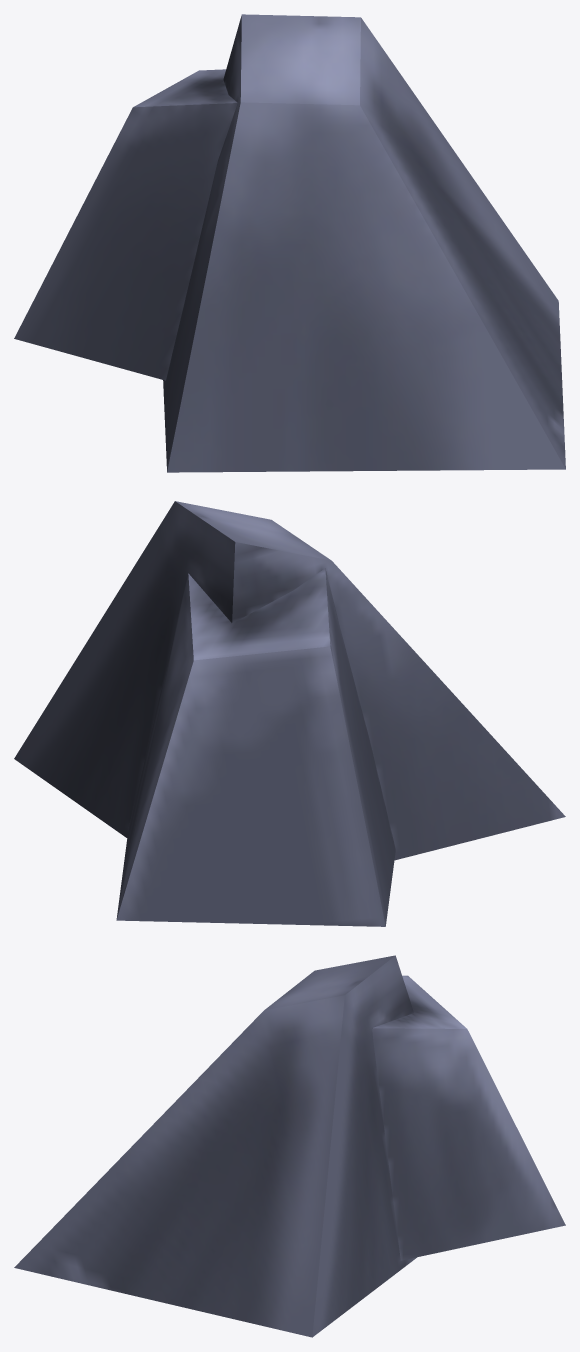
Rendered from Rock3.fbx.
3 views of the same model, one above another, from view 1: azimuth 30°, elevation 25°; view 2: azimuth 150°, elevation 25°; view 3: azimuth 270°, elevation 25° (orthographic). The views are drawn at different scales.
Parts seen in each view (by area): view 1: rock3; view 2: rock3; view 3: rock3.
Boxes of the visible parts, x1,y1,x2,y2 form: rock3: (14, 14, 565, 472); rock3: (14, 501, 565, 926); rock3: (14, 955, 565, 1337).
Size of the model in its own units: 141 by 90.81 by 168.
